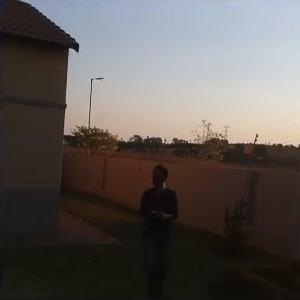follow: (136, 161, 184, 298)
